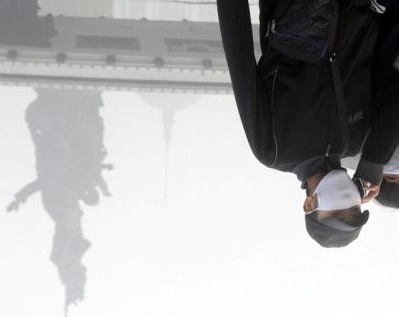person: (227, 1, 399, 252)
